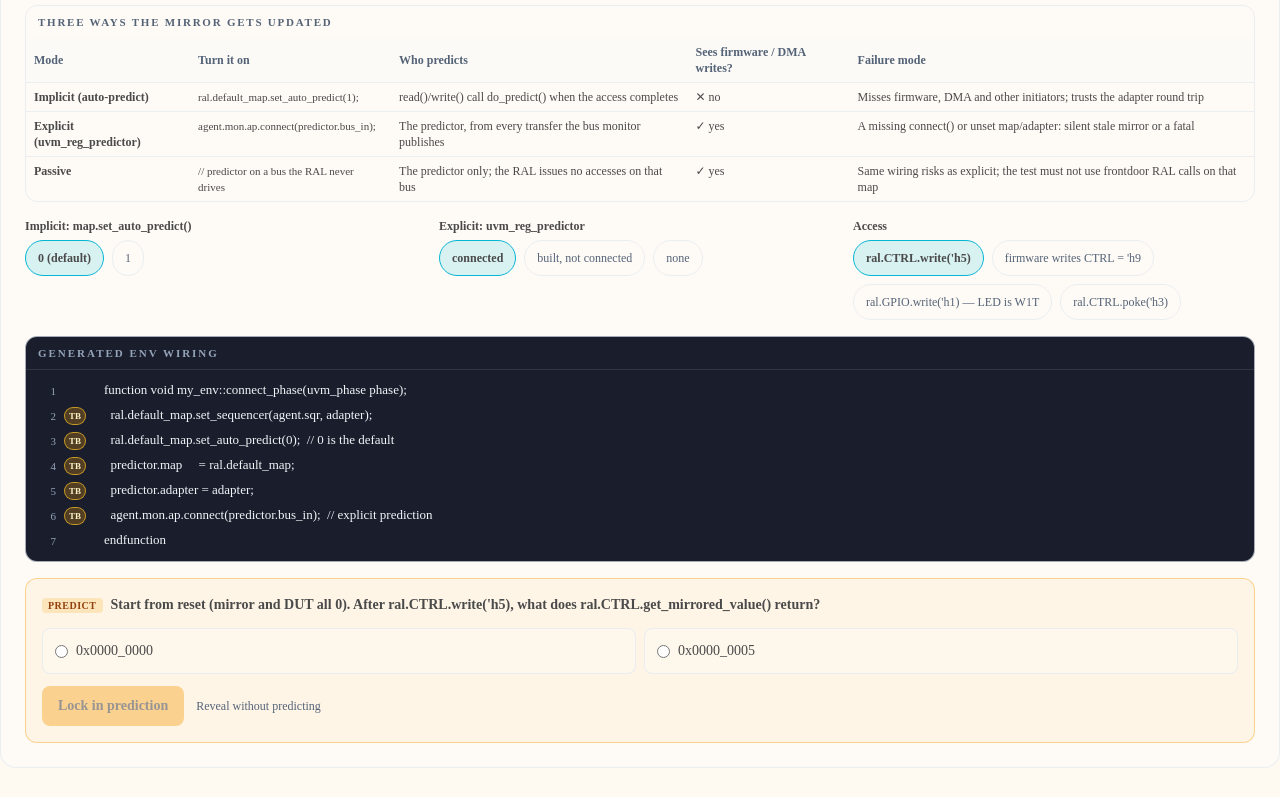
it: RALPredictorVisualizer (model: src/lib/ral-model.ts predictionPath) › keeps the path diagram hidden until the learner commits a prediction
(page scrolled)
Click the radio button labelled "0x0000_0005" at (664, 652), box [657, 645, 670, 658]
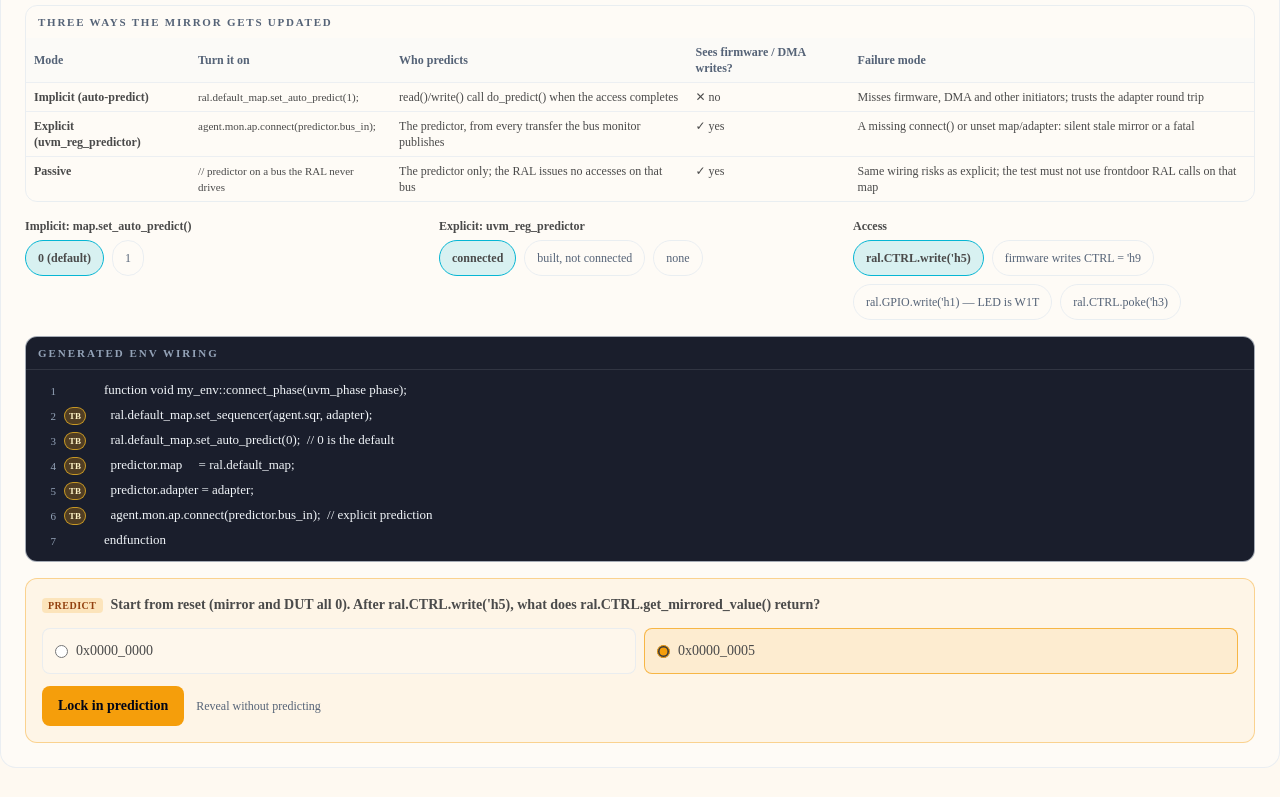
Click the button "Lock in prediction" at (113, 706), box [42, 686, 184, 726]
(page scrolled)
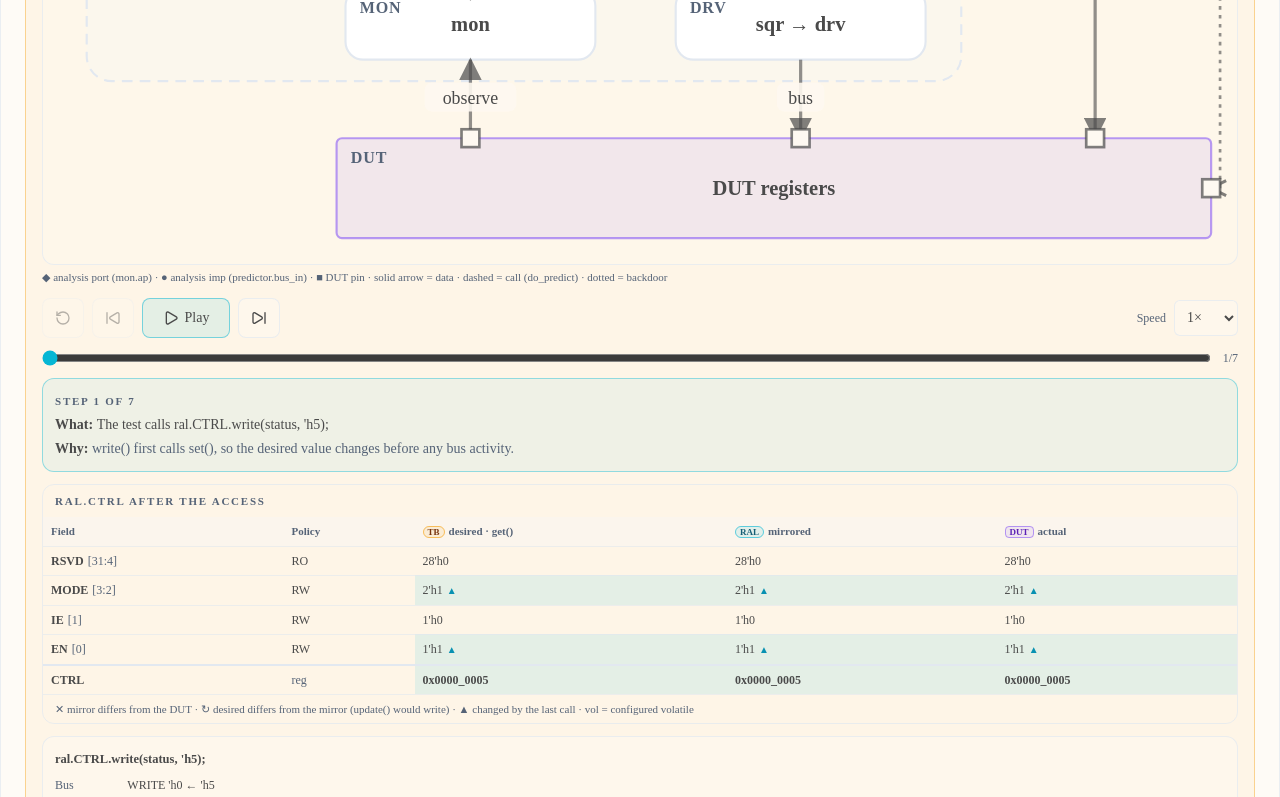
Check: the element named "Path step playback controls" is shown, box [42, 298, 1238, 366]
Check: the text "Step 1 of 7" is shown, box [55, 394, 135, 406]
